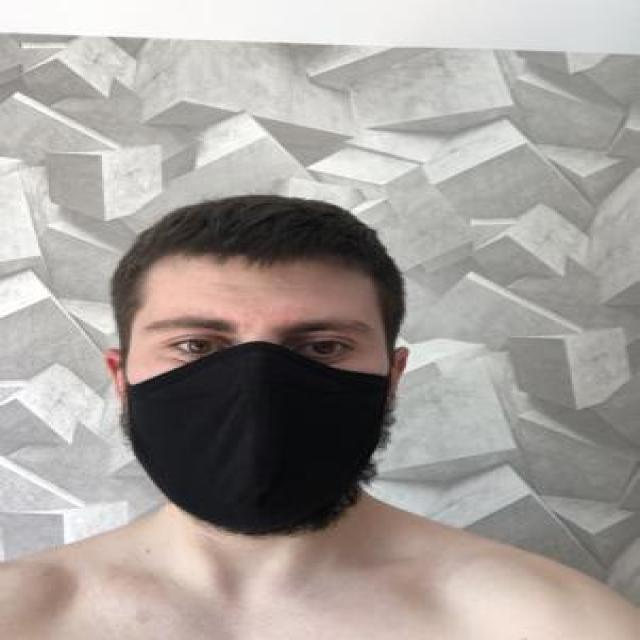with_mask: (124, 295, 388, 537)
